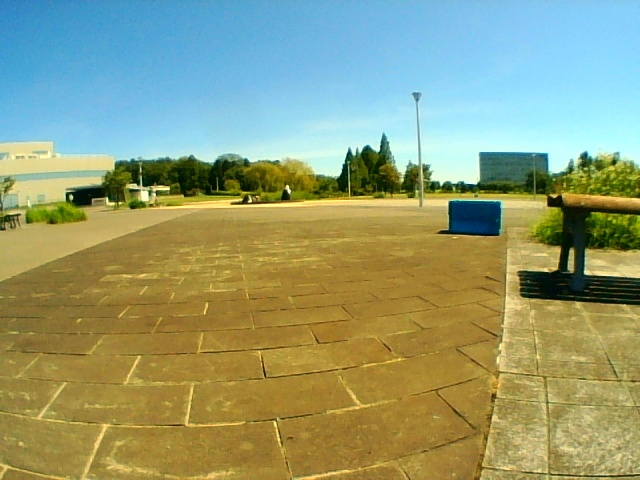blue_box: (449, 201, 501, 235)
